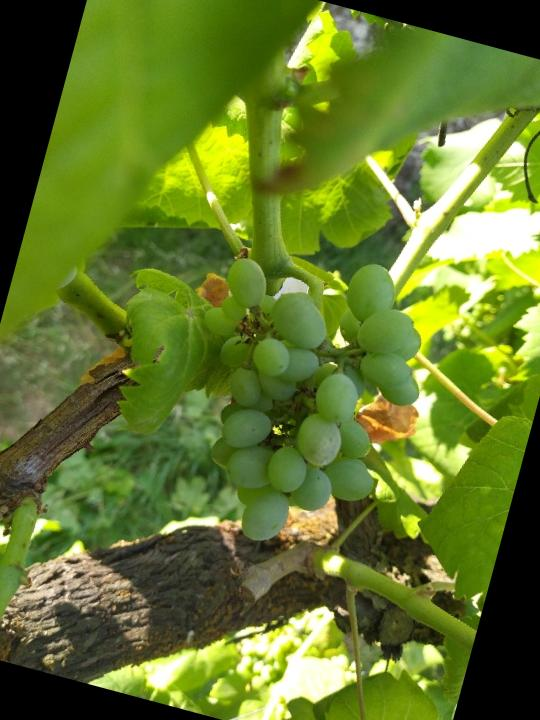grape: (144, 220, 453, 575)
